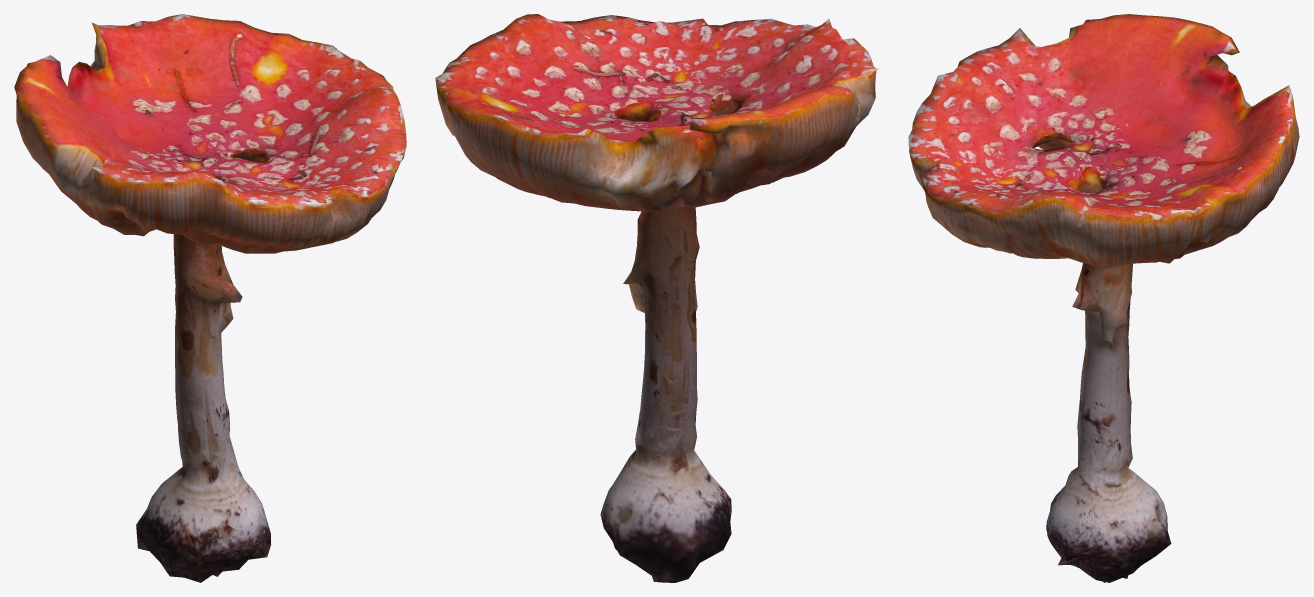
Rendered from mushroom_amanita.glb.
3 renders of one model, left to right at view 1: azimuth 30°, elevation 25°; view 2: azimuth 150°, elevation 25°; view 3: azimuth 270°, elevation 25°, orthographic. The views are drawn at different scales.
Visible parts, largest first — view 1: mushroom_amanita; view 2: mushroom_amanita; view 3: mushroom_amanita.
Boxes of the visible parts, x1,y1,x2,y2 form: mushroom_amanita: (14, 14, 406, 582); mushroom_amanita: (435, 14, 878, 582); mushroom_amanita: (908, 14, 1299, 582).
Bounding box in the file's own units: 2.49 × 3.4 × 2.46.
1 material, 1 textured.
